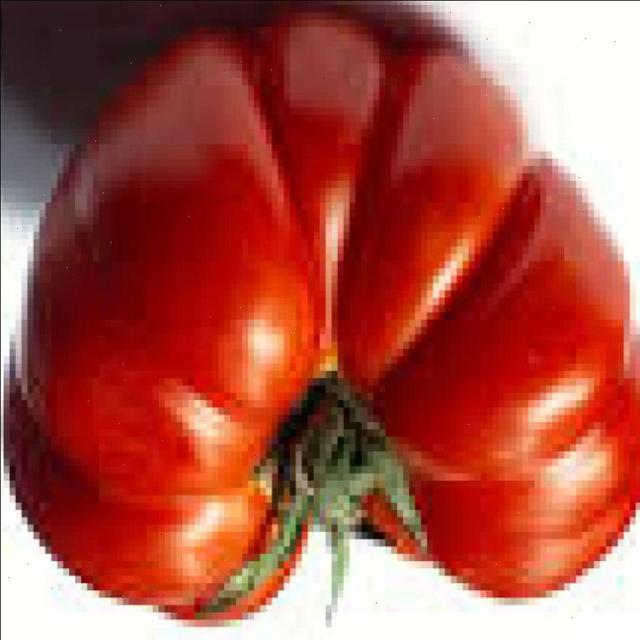Healthy Fruit: (5, 5, 427, 420)
